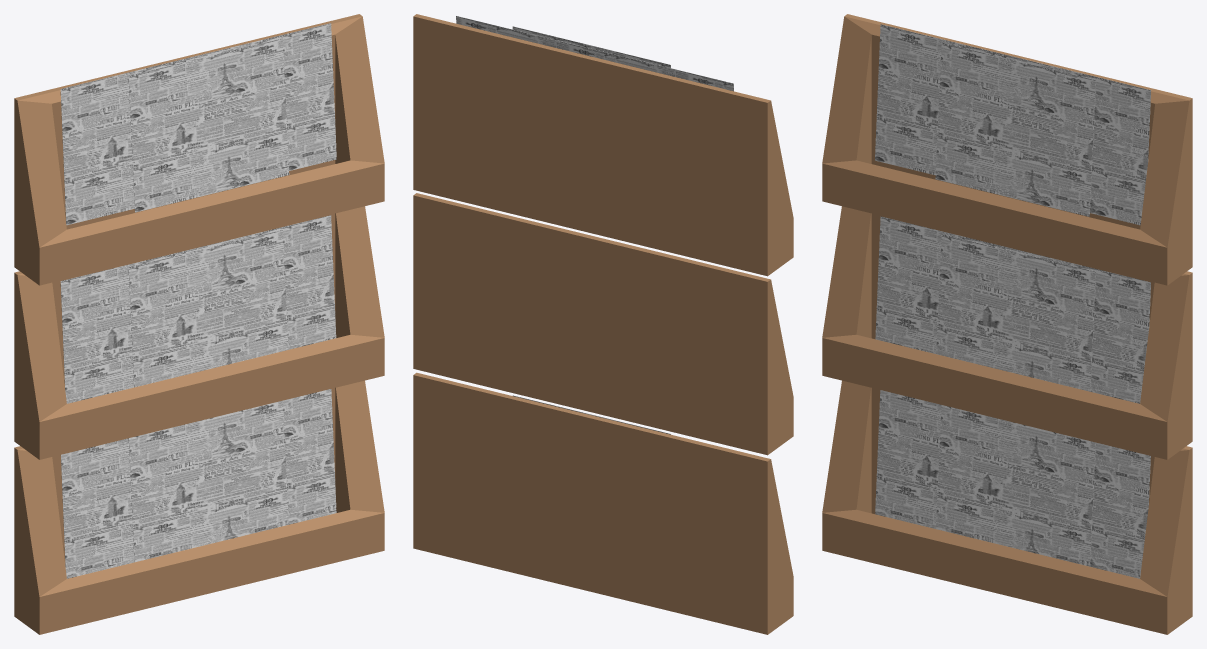
Rendered from Newspaper_Rack.fbx.
The picture shows the model from 3 angles, left to right: view 1: azimuth 30°, elevation 25°; view 2: azimuth 150°, elevation 25°; view 3: azimuth 330°, elevation 25°; orthographic projection. The views are drawn at different scales.
Parts seen in each view (by area): view 1: pCube15; view 2: pCube15; view 3: pCube15.
Part boxes in pixels (x1=…): pCube15: x1=14, y1=14, x2=384, y2=634; pCube15: x1=413, y1=14, x2=793, y2=634; pCube15: x1=822, y1=14, x2=1192, y2=634.
Bounding box in the file's own units: 9.54 × 13.79 × 1.21.
Materials: 2 (1 with a texture image).
